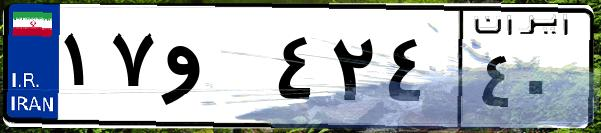0: (525, 38, 570, 115)
1: (57, 26, 110, 100)
2: (330, 28, 385, 110)
4: (270, 28, 330, 110), (385, 28, 445, 110), (475, 38, 525, 113)
7: (110, 28, 158, 98)
و: (158, 20, 270, 120)
